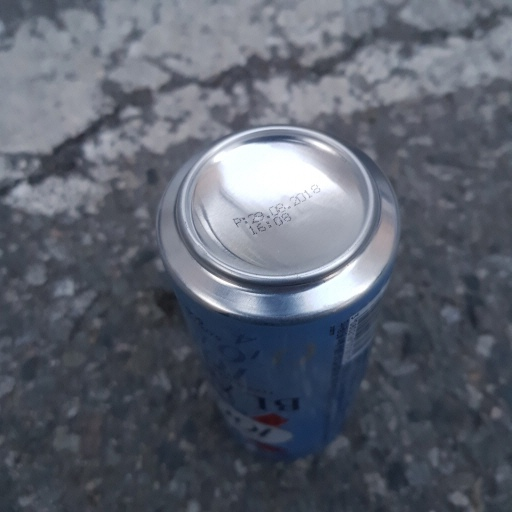Metal_0: (152, 123, 404, 454)
